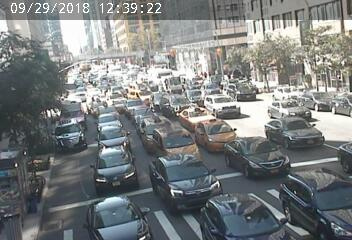car: (238, 136, 276, 184), (301, 180, 338, 225), (225, 203, 265, 240), (171, 164, 203, 201), (150, 130, 192, 158), (278, 118, 311, 144), (205, 123, 235, 150), (95, 151, 123, 176), (102, 197, 124, 227), (208, 94, 236, 116), (54, 128, 80, 151), (101, 116, 127, 137), (97, 99, 119, 121), (61, 100, 87, 117), (105, 131, 128, 149), (165, 74, 184, 95), (143, 120, 168, 135), (275, 101, 296, 118), (229, 80, 249, 97), (166, 99, 186, 115), (185, 109, 206, 124), (332, 95, 347, 111), (305, 95, 320, 107), (129, 97, 146, 107), (131, 107, 149, 116), (109, 84, 123, 94), (192, 88, 201, 99), (273, 86, 283, 94)
